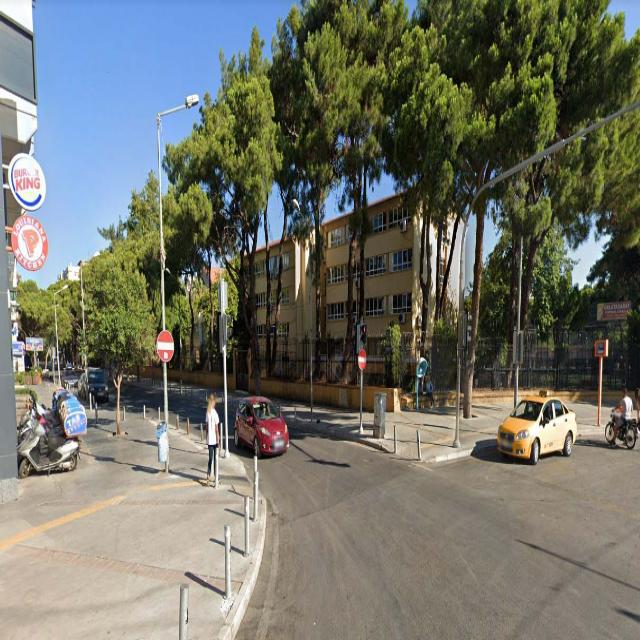girisyok: (156, 330, 173, 362), (357, 348, 366, 370)
